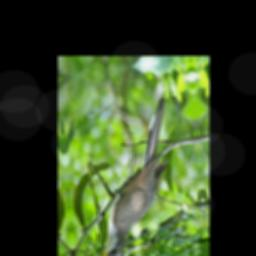Cuckoo: (83, 97, 178, 256)
